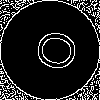O: (25, 25, 80, 74)
